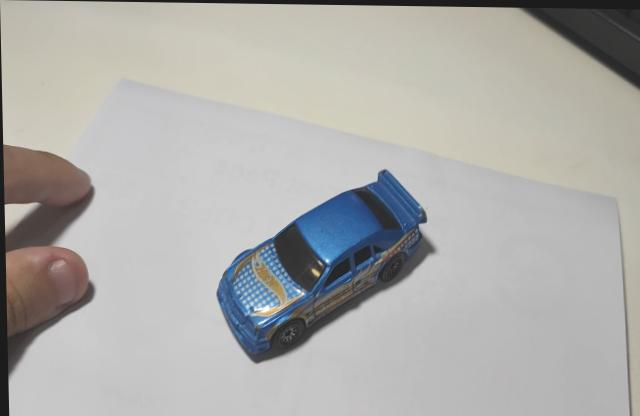04_MERZEDES: (213, 169, 434, 365)
